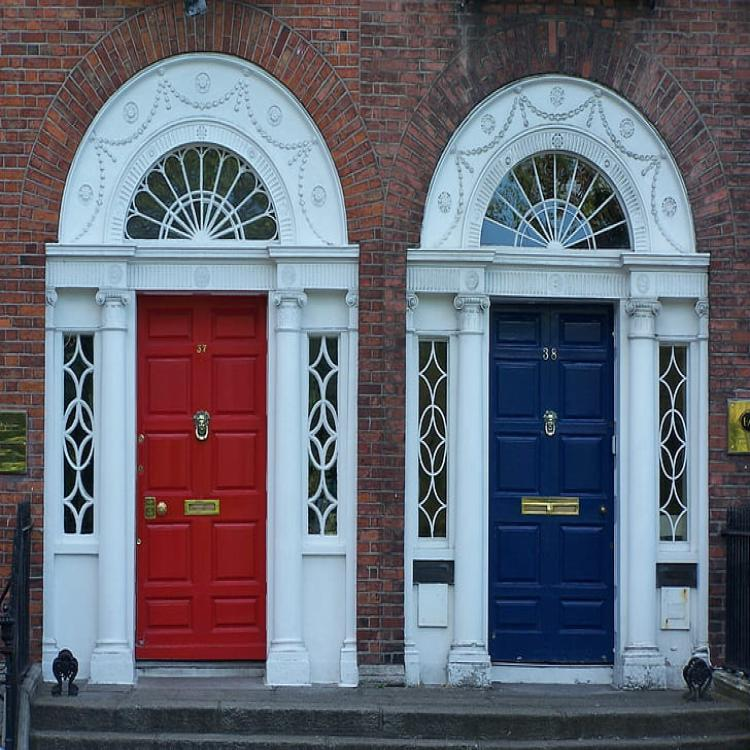ClosedDoor: (480, 290, 629, 694), (132, 281, 275, 686)
